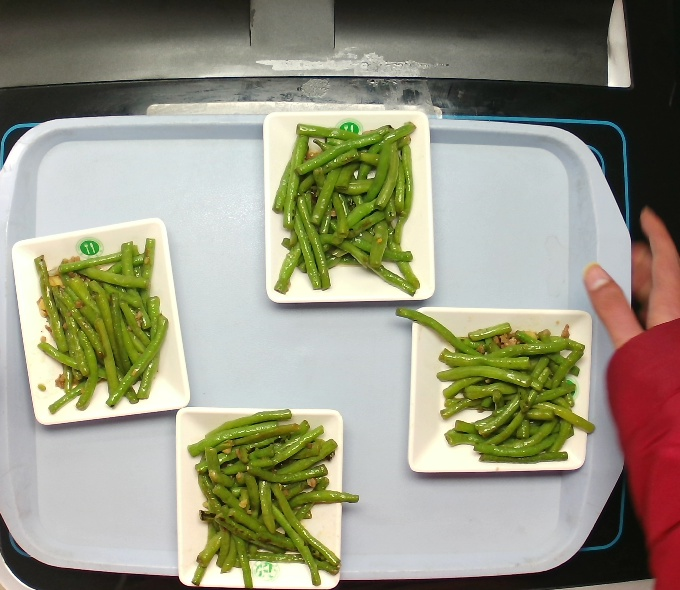wcq-RouMoJiangDou: (176, 412, 361, 589), (19, 223, 177, 428), (416, 306, 589, 480), (270, 117, 425, 309)
